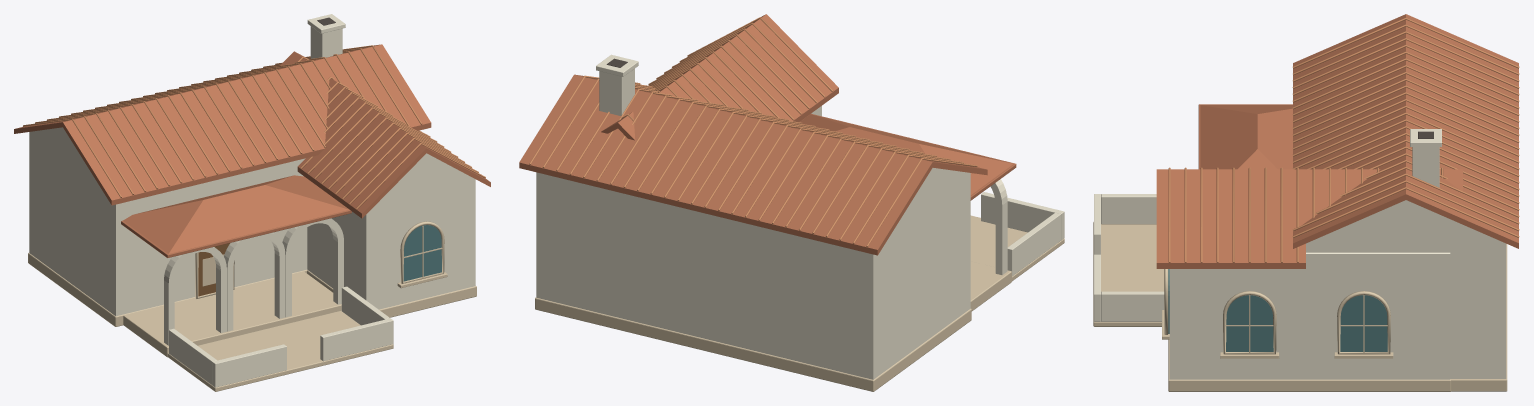
File: medium_spanish_revival.glb
The picture shows the model from 3 angles, left to right: view 1: azimuth 30°, elevation 25°; view 2: azimuth 150°, elevation 25°; view 3: azimuth 270°, elevation 25°; orthographic projection. The views are drawn at different scales.
Visible parts, largest first — view 1: Spanish rear long block closed pitched roof, Spanish rear long block closed gabled walls, Spanish forward right wing closed gabled walls, Spanish loggia tile canopy solid hip roof, Spanish forward right wing closed pitched roof, Spanish loggia solid terrace, Spanish small paved patio, Spanish patio front left wall, Spanish patio front right wall, Spanish open front loggia arch, Spanish open front loggia arch.001, Spanish right-wing arched window inset pane (+10 smaller); view 2: Spanish rear long block closed gabled walls, Spanish rear long block closed pitched roof, Spanish forward right wing closed pitched roof, Spanish rear block foundation, Spanish loggia tile canopy solid hip roof, Spanish low patio side wall, Spanish patio front left wall, Spanish small paved patio, Spanish right rear chimney chimney shaft, Spanish loggia solid terrace, Spanish open front loggia arch, Spanish loggia tile canopy closed eave fascia (+1 smaller); view 3: Spanish rear long block closed pitched roof, Spanish forward right wing closed gabled walls, Spanish forward right wing closed pitched roof, Spanish rear long block closed gabled walls, Spanish loggia tile canopy solid hip roof, Spanish small paved patio, Spanish right wing foundation, Spanish right-side window inset pane.001, Spanish right-side window inset pane, Spanish low patio side wall.001, Spanish low patio side wall, Spanish rear block foundation (+30 smaller).
Part boxes in pixels (x1=…): Spanish rear long block closed pitched roof: x1=14, y1=44, x2=431, y2=205; Spanish rear long block closed gabled walls: x1=29, y1=127, x2=307, y2=316; Spanish forward right wing closed gabled walls: x1=307, y1=153, x2=475, y2=309; Spanish loggia tile canopy solid hip roof: x1=123, y1=175, x2=349, y2=253; Spanish forward right wing closed pitched roof: x1=280, y1=51, x2=490, y2=218; Spanish loggia solid terrace: x1=123, y1=271, x2=341, y2=357; Spanish small paved patio: x1=167, y1=310, x2=393, y2=391; Spanish patio front left wall: x1=212, y1=344, x2=286, y2=387; Spanish patio front right wall: x1=320, y1=318, x2=393, y2=361; Spanish open front loggia arch: x1=164, y1=247, x2=226, y2=345; Spanish open front loggia arch.001: x1=224, y1=232, x2=285, y2=331; Spanish right-wing arched window inset pane: x1=403, y1=225, x2=441, y2=281; Spanish rear long block closed gabled walls: x1=536, y1=168, x2=970, y2=379; Spanish rear long block closed pitched roof: x1=519, y1=74, x2=987, y2=255; Spanish forward right wing closed pitched roof: x1=601, y1=14, x2=838, y2=140; Spanish rear block foundation: x1=535, y1=297, x2=971, y2=391; Spanish loggia tile canopy solid hip roof: x1=800, y1=114, x2=1013, y2=194; Spanish low patio side wall: x1=1007, y1=212, x2=1060, y2=276; Spanish patio front left wall: x1=981, y1=192, x2=1064, y2=240; Spanish small paved patio: x1=970, y1=215, x2=1064, y2=281; Spanish right rear chimney chimney shaft: x1=599, y1=68, x2=634, y2=115; Spanish loggia solid terrace: x1=970, y1=261, x2=1011, y2=311; Spanish open front loggia arch: x1=990, y1=179, x2=1007, y2=274; Spanish loggia tile canopy closed eave fascia: x1=800, y1=113, x2=1016, y2=200; Spanish rear long block closed pitched roof: x1=1293, y1=14, x2=1518, y2=248; Spanish forward right wing closed gabled walls: x1=1169, y1=252, x2=1450, y2=379; Spanish forward right wing closed pitched roof: x1=1156, y1=169, x2=1462, y2=268; Spanish rear long block closed gabled walls: x1=1306, y1=200, x2=1506, y2=378; Spanish loggia tile canopy solid hip roof: x1=1200, y1=105, x2=1292, y2=169; Spanish small paved patio: x1=1093, y1=222, x2=1164, y2=326; Spanish right wing foundation: x1=1168, y1=339, x2=1451, y2=391; Spanish right-side window inset pane.001: x1=1340, y1=295, x2=1387, y2=351; Spanish right-side window inset pane: x1=1226, y1=295, x2=1273, y2=351; Spanish low patio side wall.001: x1=1101, y1=291, x2=1164, y2=321; Spanish low patio side wall: x1=1101, y1=194, x2=1156, y2=224; Spanish rear block foundation: x1=1450, y1=244, x2=1507, y2=391.
Bounding box in the file's own units: 10.68 × 6.47 × 10.63.
